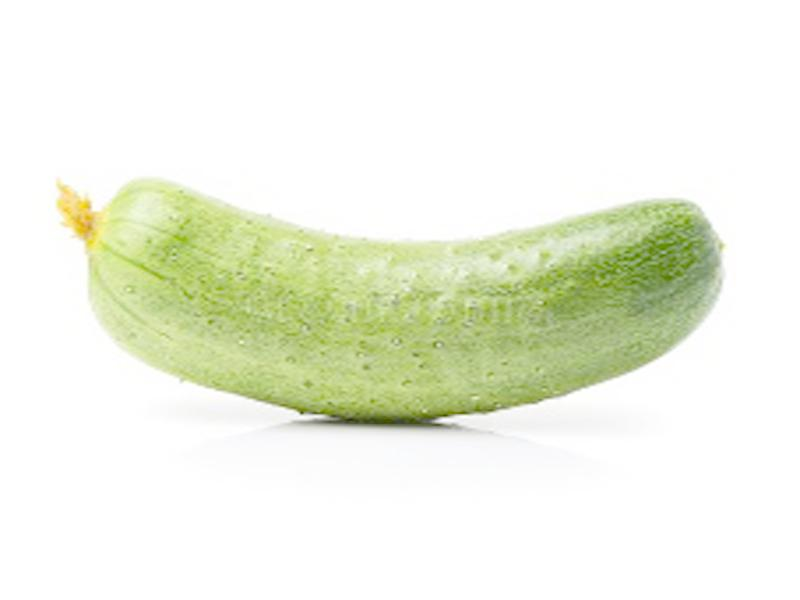Cucumber: (49, 174, 726, 423)
